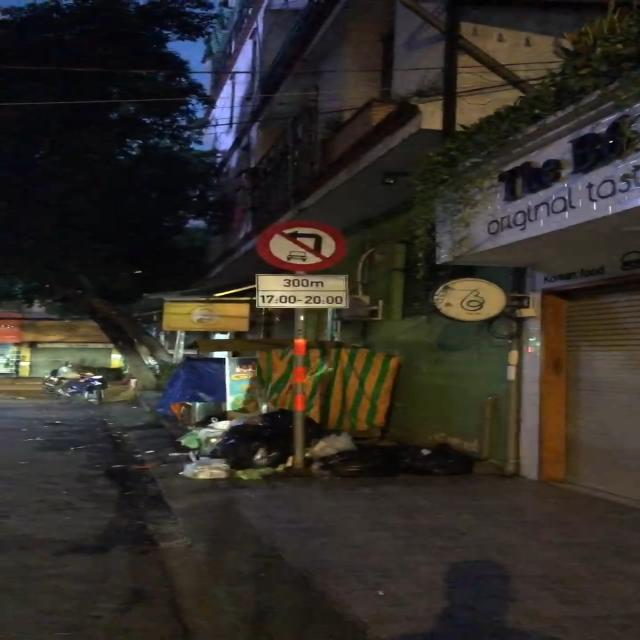Bien bao cam xe o to re trai: (256, 222, 353, 272)
